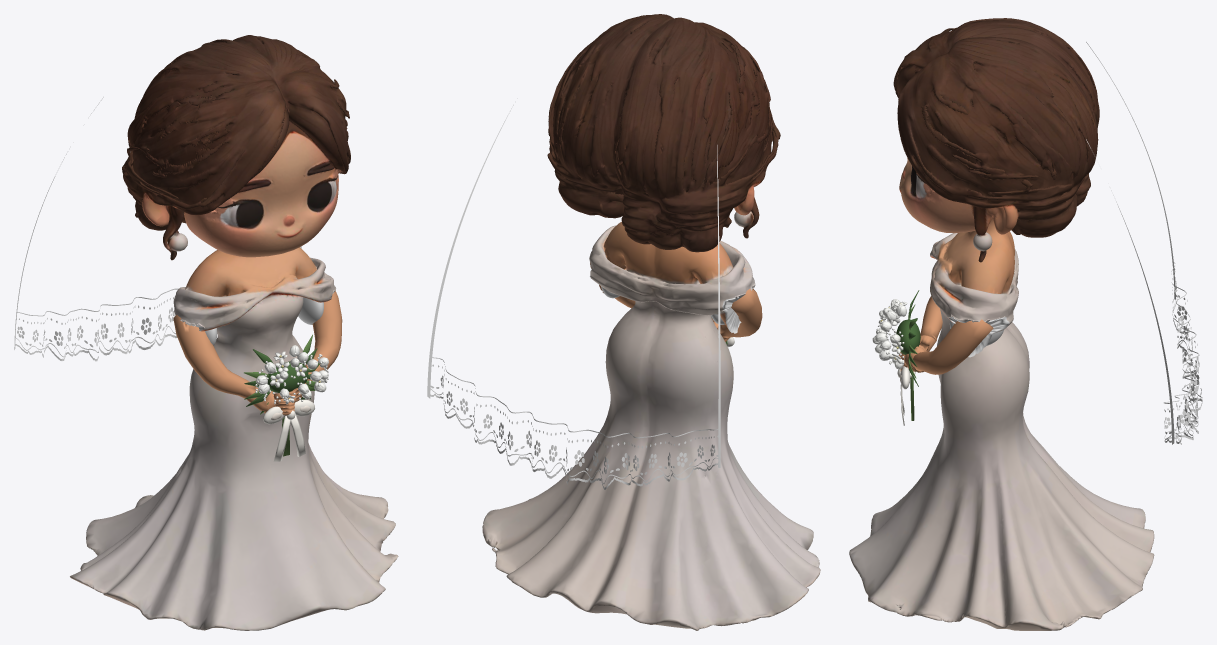
Rendered from Bride_Tripo.fbx.
The picture shows the model from 3 angles, left to right: view 1: azimuth 30°, elevation 25°; view 2: azimuth 150°, elevation 25°; view 3: azimuth 270°, elevation 25°; orthographic projection. The views are drawn at different scales.
Visible parts, largest first — view 1: Bride_Tripo; view 2: Bride_Tripo; view 3: Bride_Tripo.
Part boxes in pixels (bbox=[...]): Bride_Tripo: bbox=[14, 35, 398, 630]; Bride_Tripo: bbox=[427, 14, 820, 630]; Bride_Tripo: bbox=[849, 18, 1202, 630].
Bounding box in the file's own units: 0.8777 × 1.45 × 0.8431.
